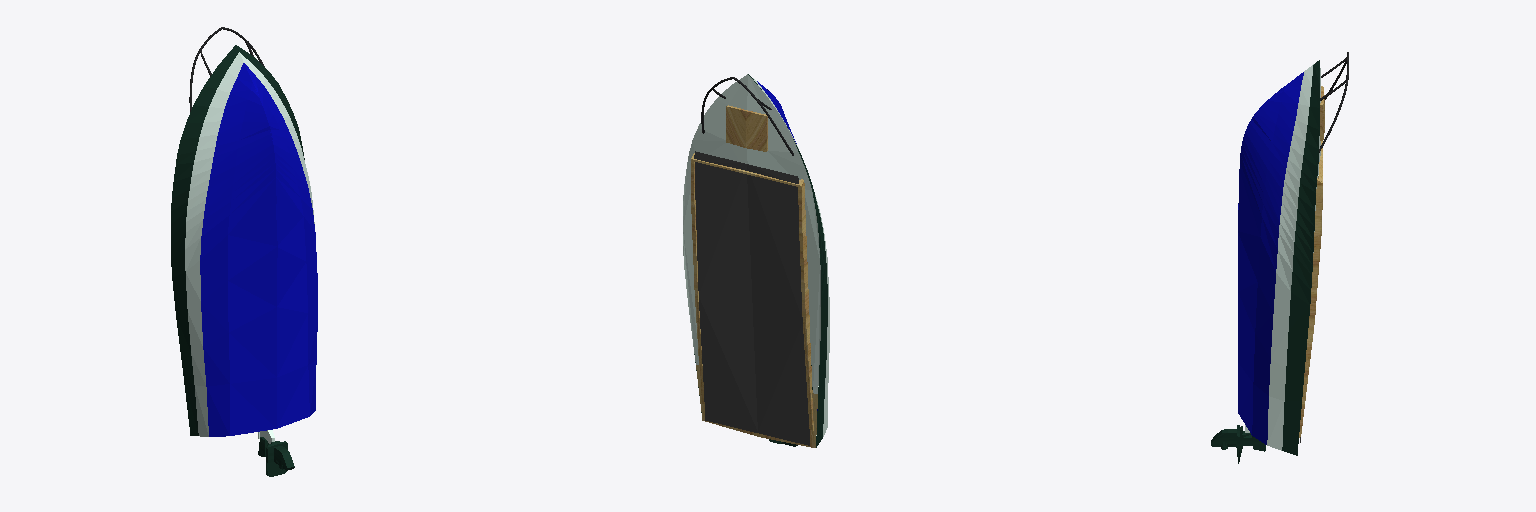
The picture shows the model from 3 angles: view 1: azimuth 30°, elevation 25°; view 2: azimuth 150°, elevation 25°; view 3: azimuth 270°, elevation 25°; orthographic projection.
Visible parts, largest first — view 1: Cabin_Plane.001_Windows.002; view 2: Cabin_Plane.001_Windows.002; view 3: Cabin_Plane.001_Windows.002.
Part boxes in pixels (x1,y1,x2,y2): Cabin_Plane.001_Windows.002: (171, 27, 317, 476); Cabin_Plane.001_Windows.002: (683, 74, 829, 447); Cabin_Plane.001_Windows.002: (1211, 52, 1348, 463).
Size of the model in its own units: 2.02 by 5.72 by 1.76.
9 materials, 2 textured.